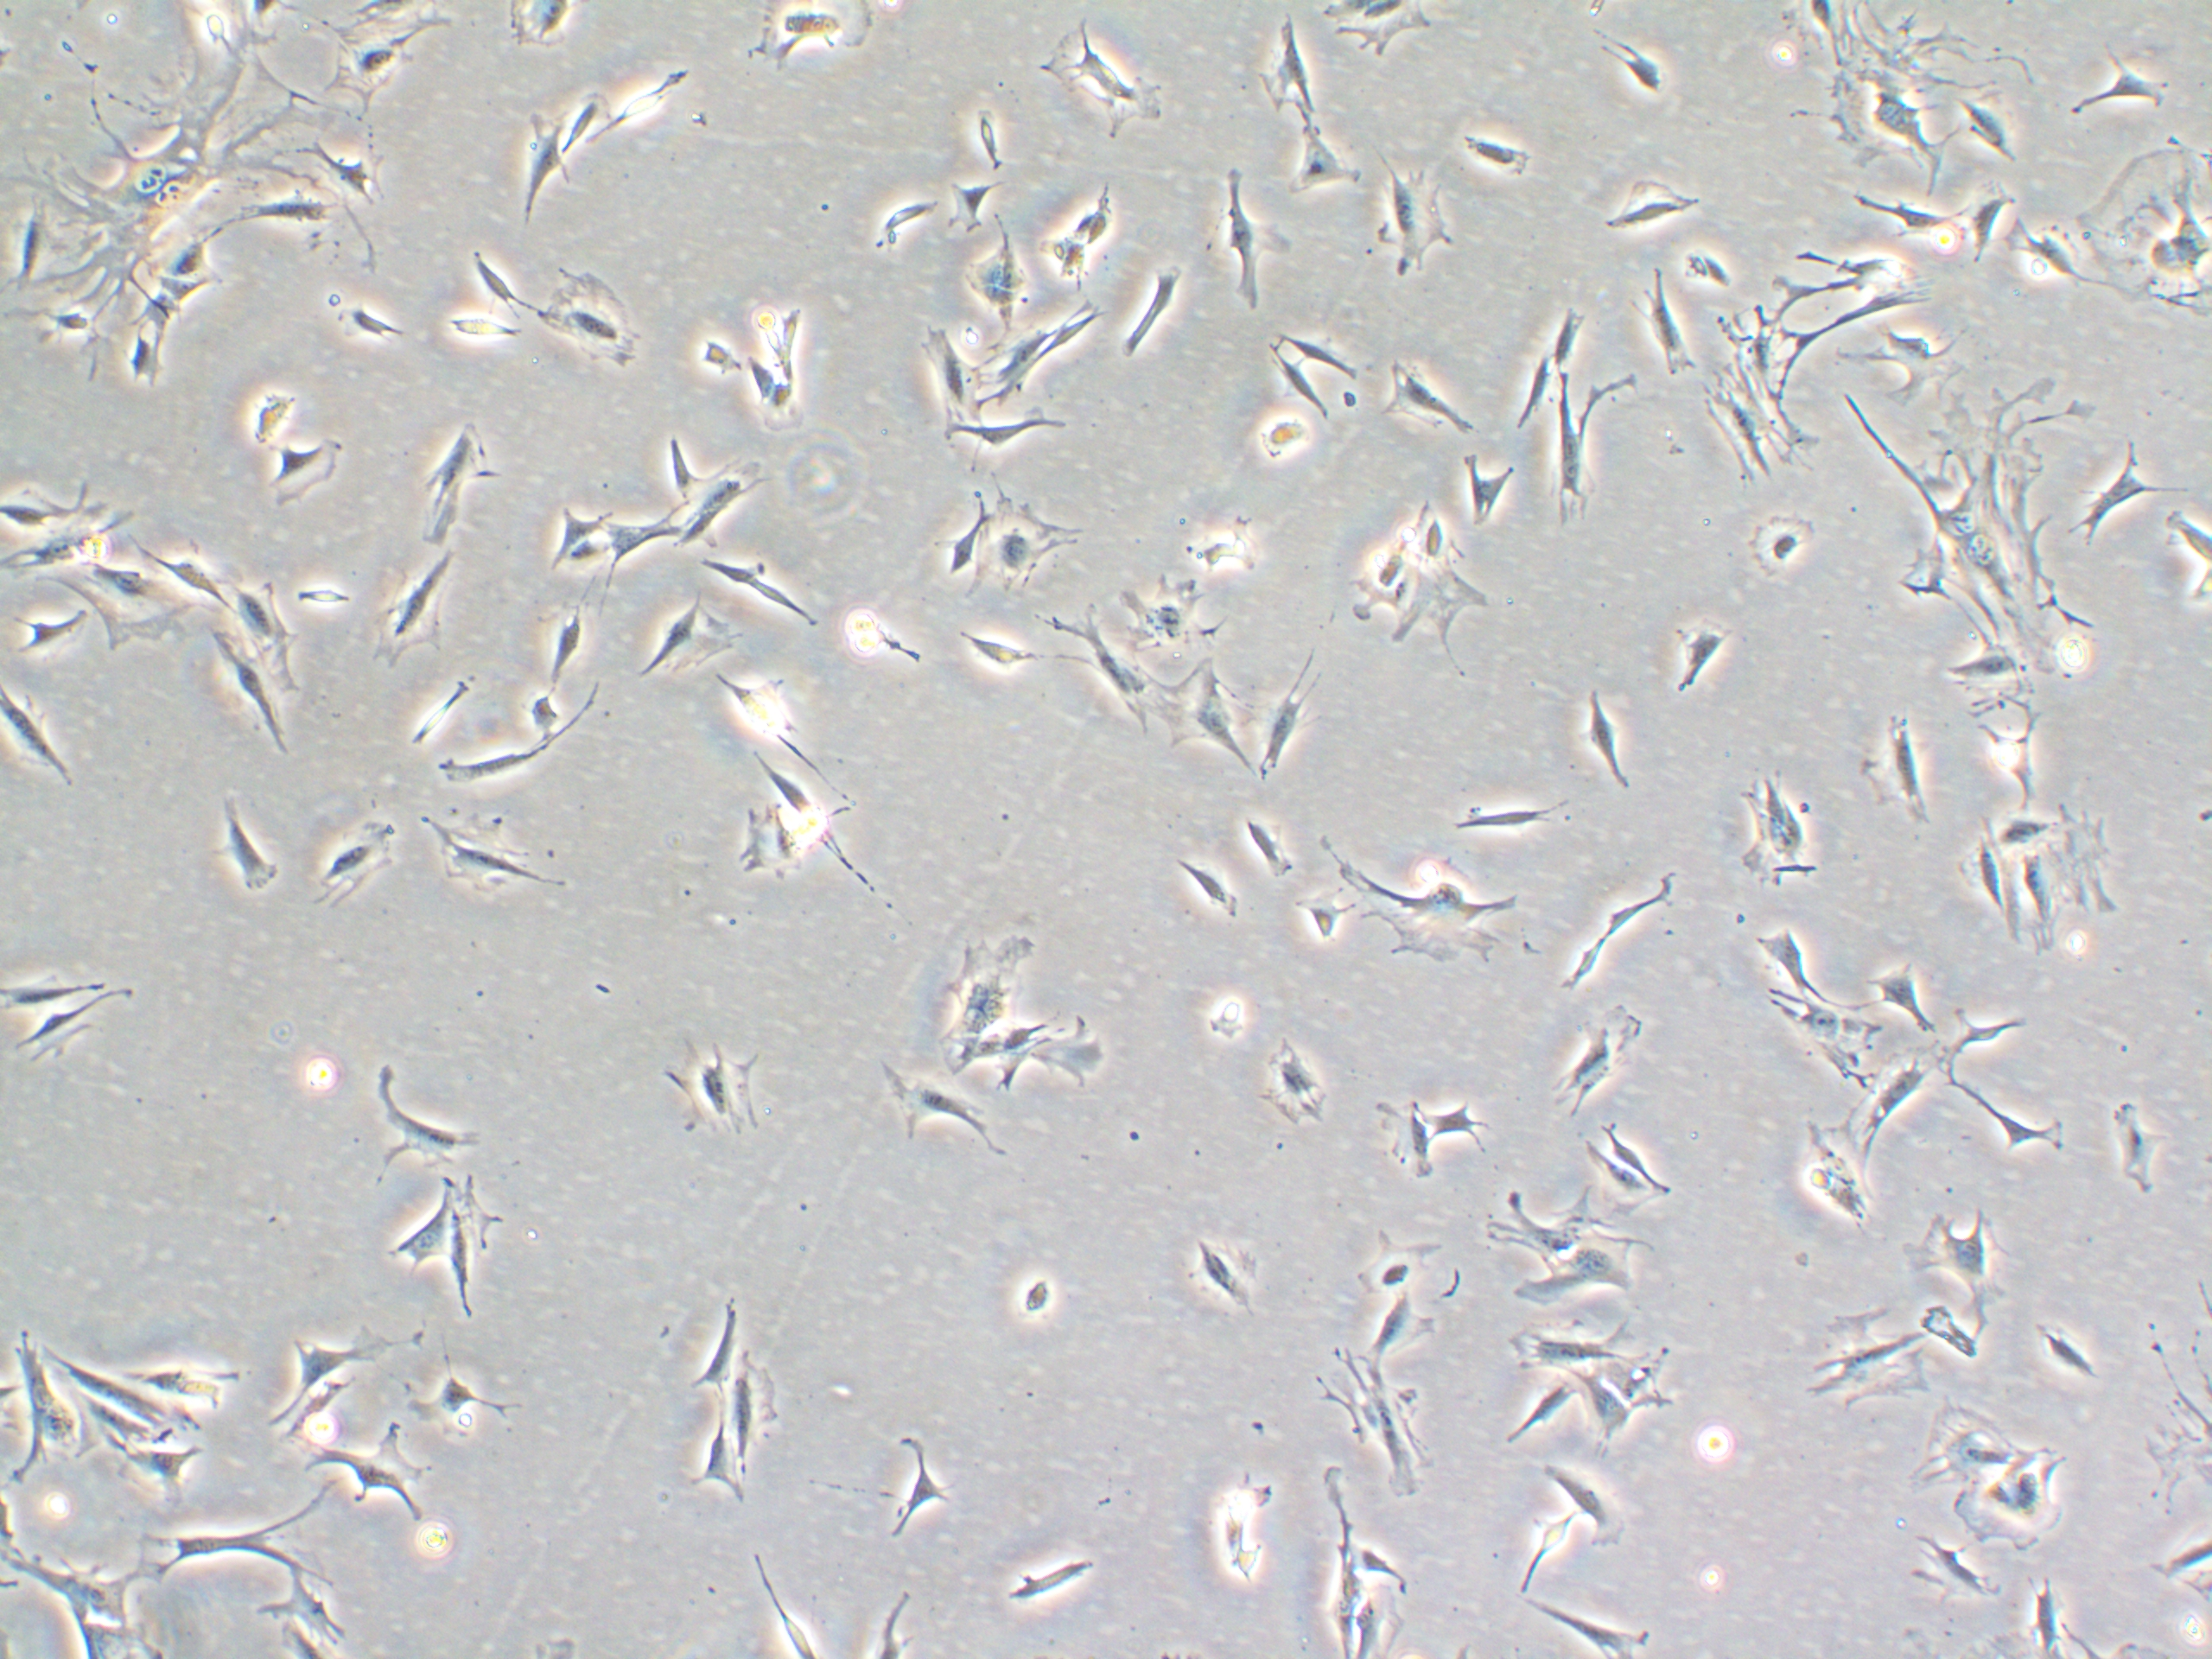small: (1735, 504, 1834, 587), (1237, 403, 1327, 484), (1184, 978, 1261, 1046)
spread: (9, 19, 298, 300), (1853, 394, 2094, 680), (1312, 840, 1533, 979), (2059, 138, 2212, 328), (1818, 16, 1979, 192), (1303, 1344, 1453, 1514), (1386, 518, 1510, 683), (303, 0, 465, 125), (369, 1164, 496, 1319), (1028, 28, 1177, 152), (2008, 810, 2130, 960), (1898, 1202, 2034, 1333), (1141, 660, 1271, 791), (927, 918, 1047, 1058), (1703, 352, 1825, 488), (1956, 1438, 2083, 1565), (1796, 1298, 1932, 1415), (965, 484, 1092, 608), (1745, 978, 1881, 1089), (47, 559, 206, 653), (535, 256, 658, 375), (425, 810, 575, 908), (1911, 1389, 2038, 1500), (651, 1030, 768, 1141), (1721, 765, 1825, 885), (747, 0, 897, 77), (909, 321, 1003, 436), (1106, 570, 1223, 659)
